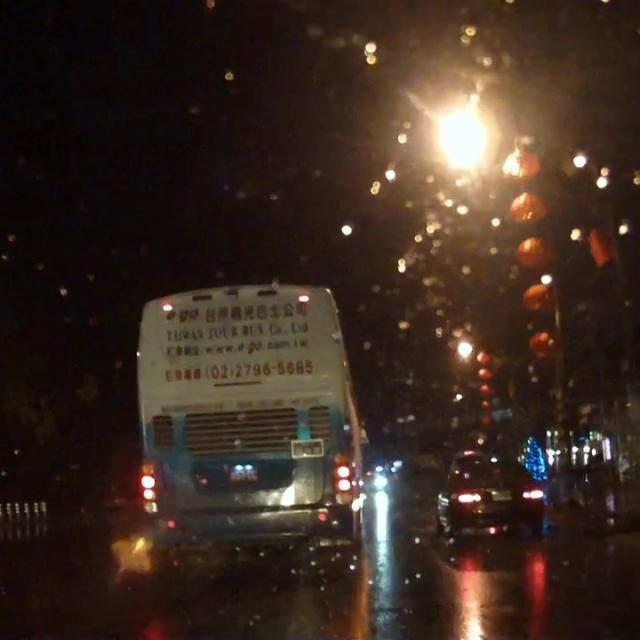Car: (428, 445, 546, 546)
